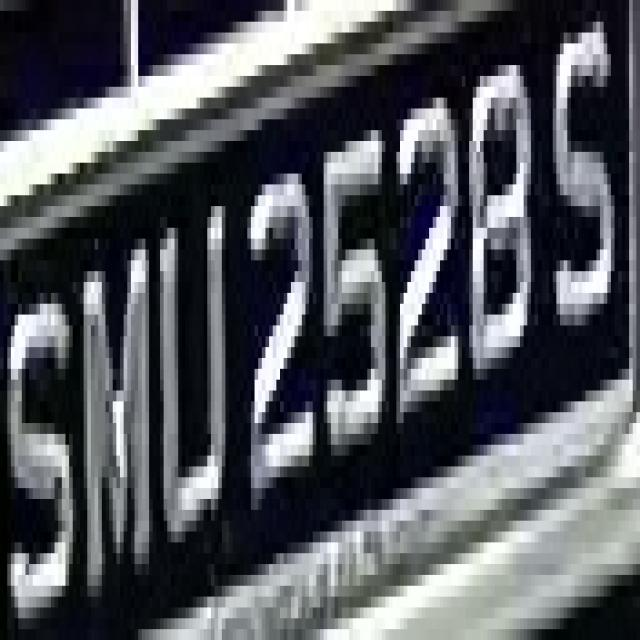2: (247, 130, 320, 532), (389, 76, 469, 423)
5: (309, 108, 393, 434)
8: (469, 43, 542, 369)
M: (76, 217, 156, 618)
S: (0, 260, 80, 629), (546, 32, 629, 380)
U: (146, 185, 237, 542)
